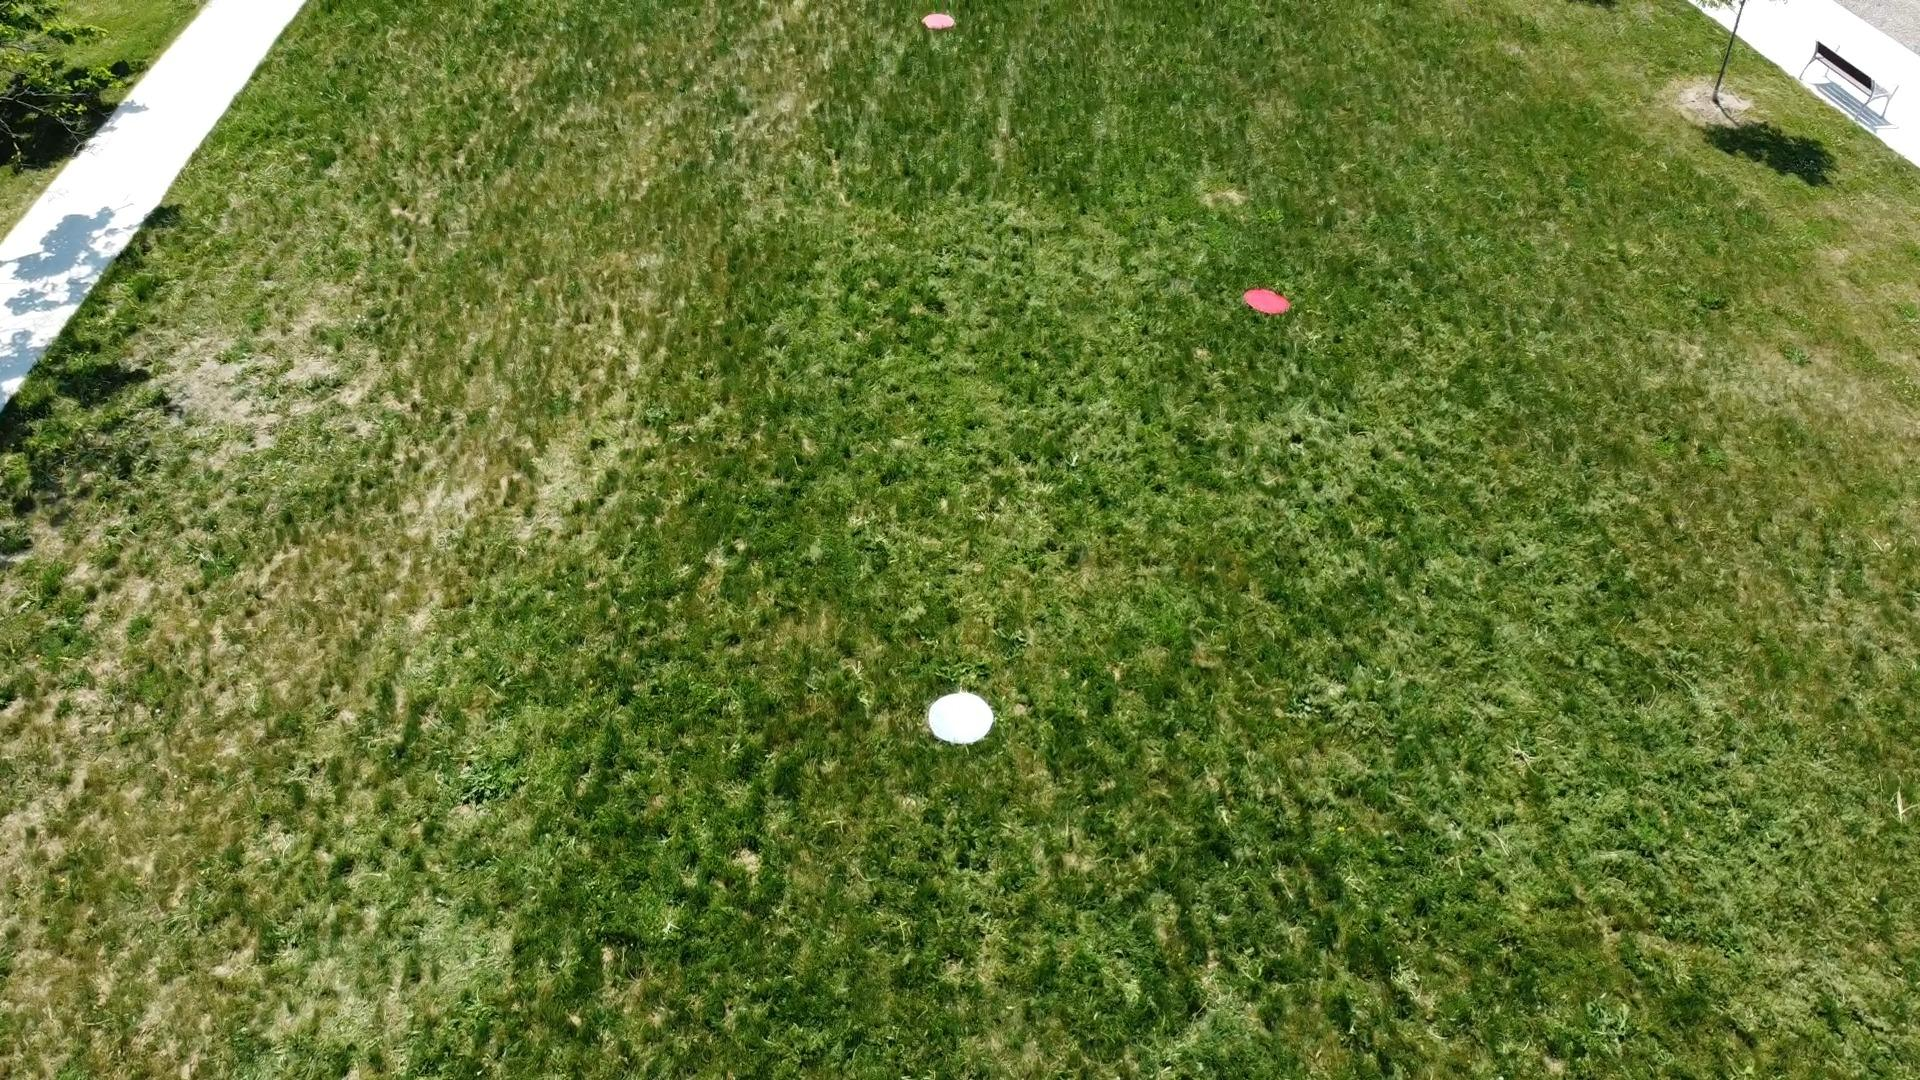Blue: (926, 687, 996, 746)
Red: (1244, 285, 1294, 316), (920, 13, 956, 29)
